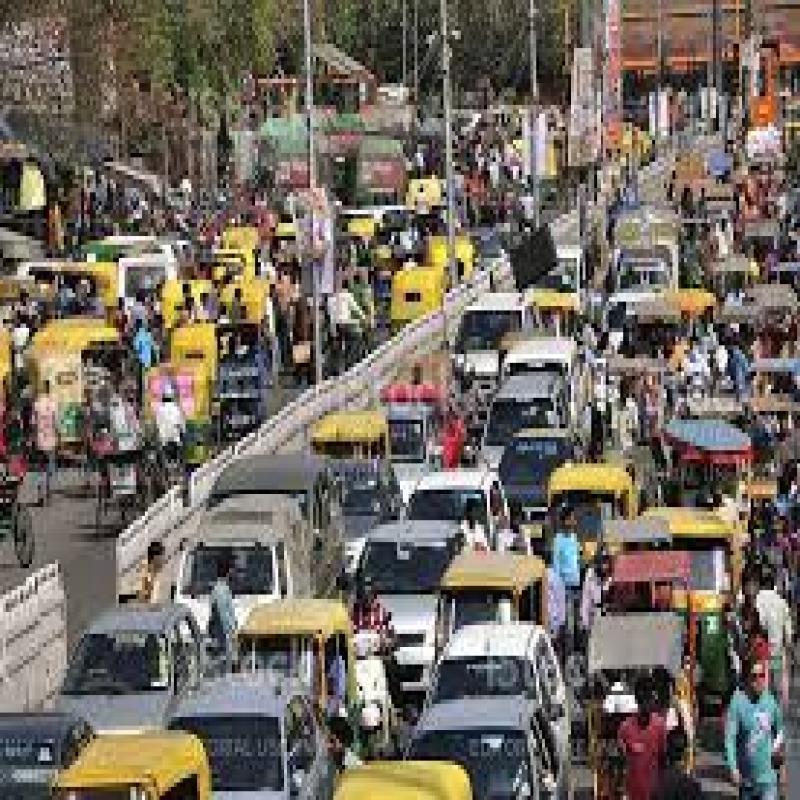auto: (656, 504, 736, 686), (303, 415, 404, 501), (548, 457, 622, 574)
car: (160, 665, 310, 785), (442, 604, 586, 724), (359, 504, 453, 682), (184, 517, 294, 610), (470, 371, 554, 488)
